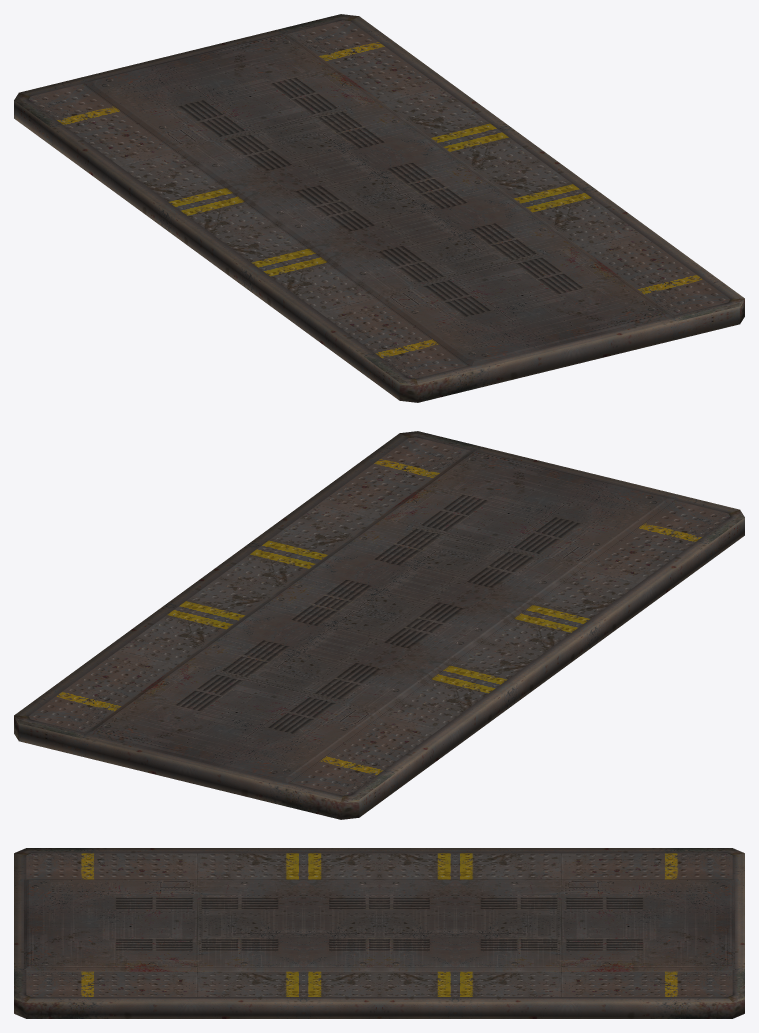
File: Floor_E_2'5qmts_12.fbx
The picture shows the model from 3 angles, top to bottom: view 1: azimuth 30°, elevation 25°; view 2: azimuth 150°, elevation 25°; view 3: azimuth 270°, elevation 25°; orthographic projection. The views are drawn at different scales.
Parts seen in each view (by area): view 1: Floor_E_2'5qmts_12; view 2: Floor_E_2'5qmts_12; view 3: Floor_E_2'5qmts_12.
Boxes of the visible parts, bbox=[...] form: Floor_E_2'5qmts_12: bbox=[14, 14, 744, 402]; Floor_E_2'5qmts_12: bbox=[14, 431, 744, 819]; Floor_E_2'5qmts_12: bbox=[14, 848, 744, 1018].
Bounding box in the file's own units: 250 × 13.81 × 500.
Materials: 1 (1 with a texture image).
